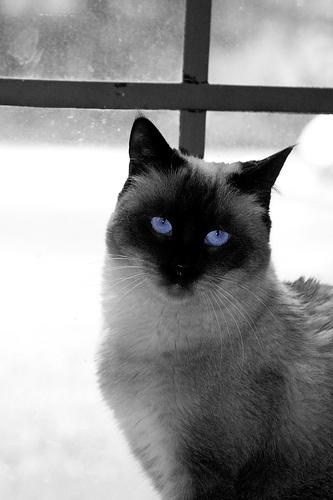cat: (93, 114, 333, 500)
